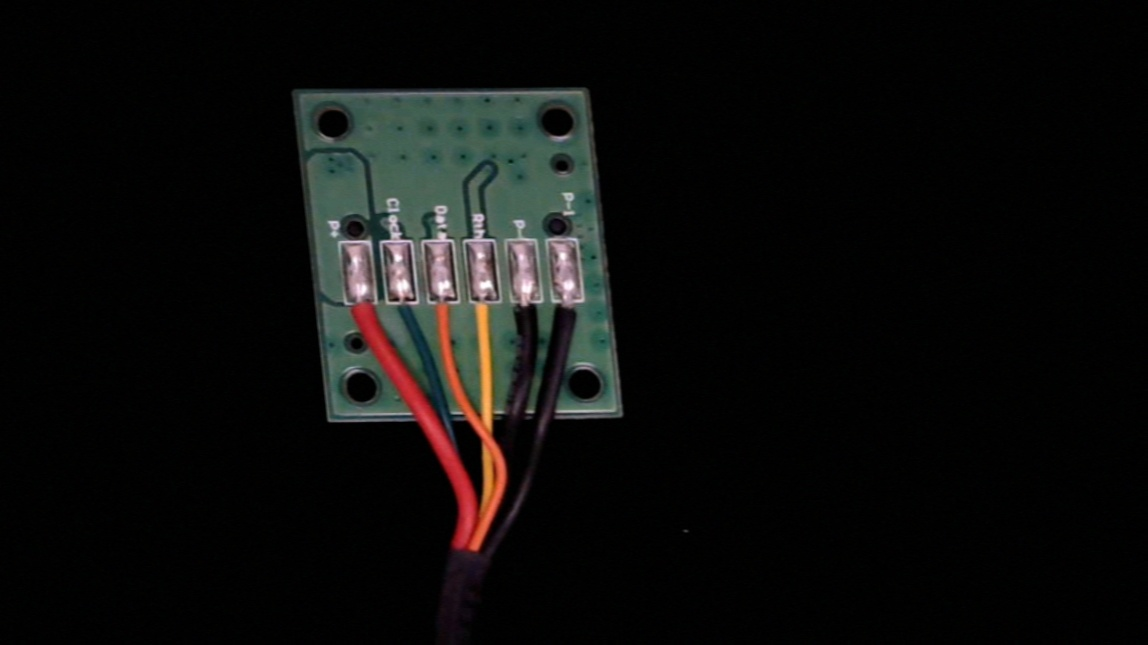Black: (510, 286, 548, 353)
Black1: (553, 286, 589, 346)
Green: (384, 288, 422, 349)
Orange: (427, 288, 463, 350)
Red: (345, 292, 385, 361)
Yellow: (469, 286, 506, 355)
